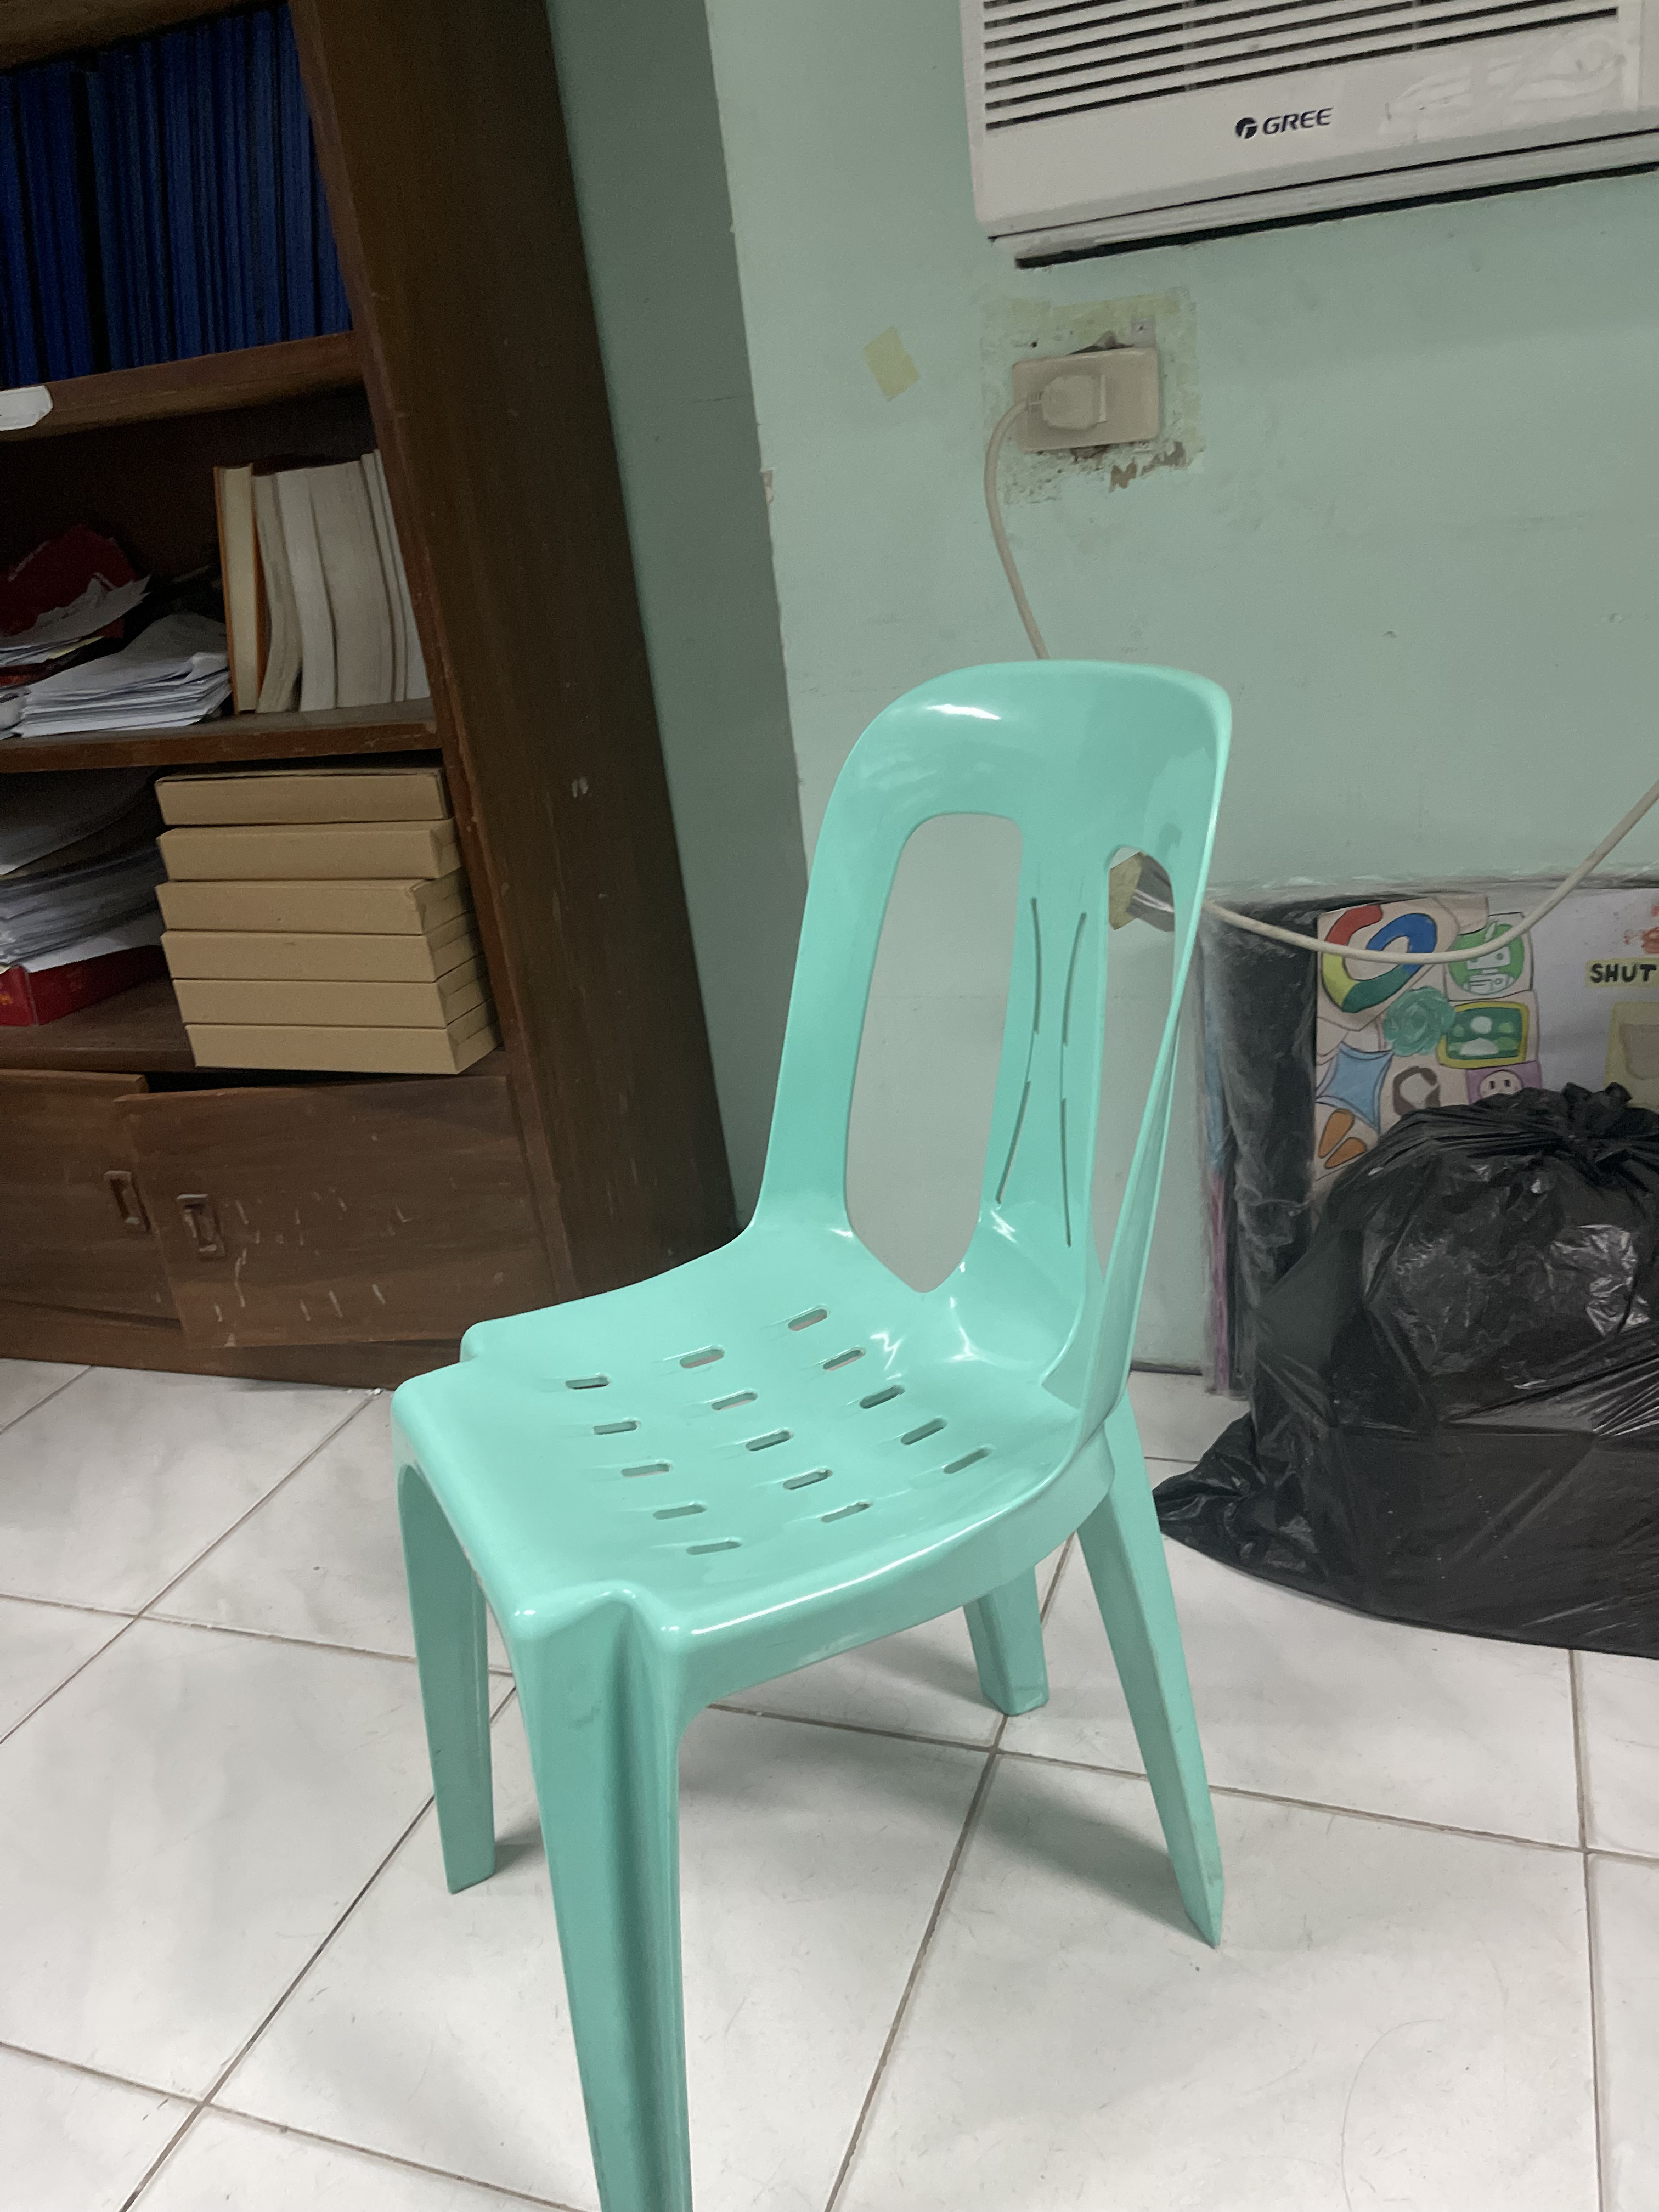chair2: (385, 648, 1251, 2212)
